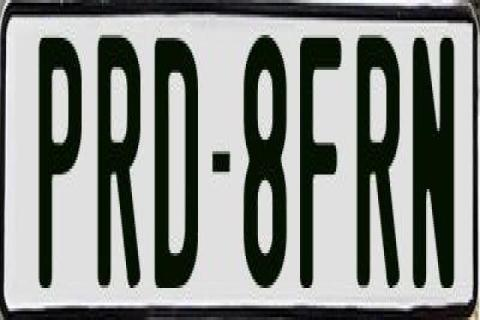0: (244, 29, 294, 299)
D: (154, 32, 204, 291)
F: (298, 32, 340, 282)
N: (411, 32, 458, 288)
P: (38, 35, 86, 294)
R: (94, 29, 142, 291), (354, 32, 398, 296)
